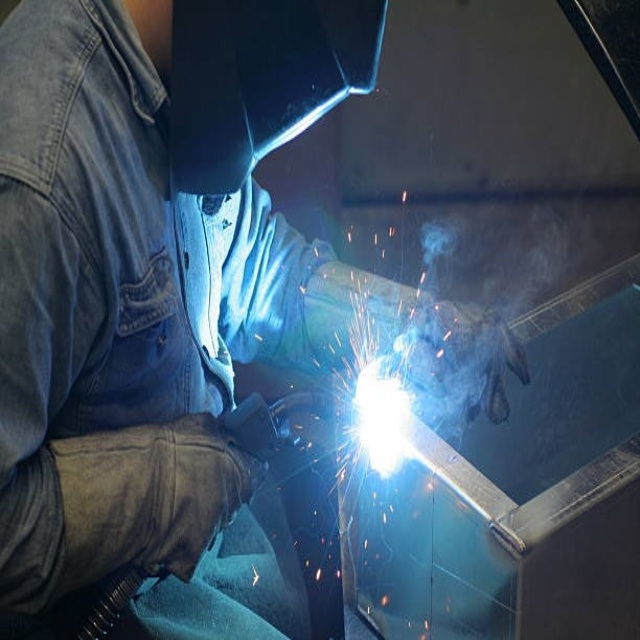Guantes: (299, 245, 534, 463), (50, 400, 264, 598)
